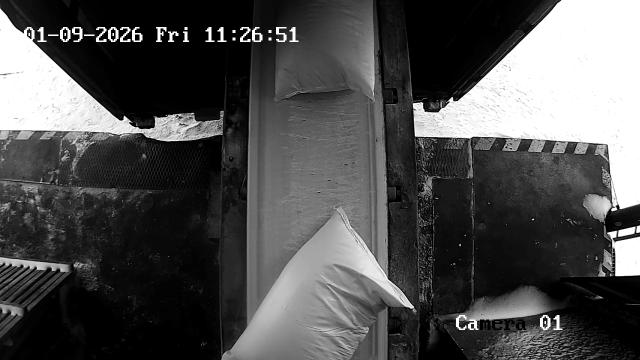bag: (222, 208, 416, 360), (276, 0, 374, 102)
